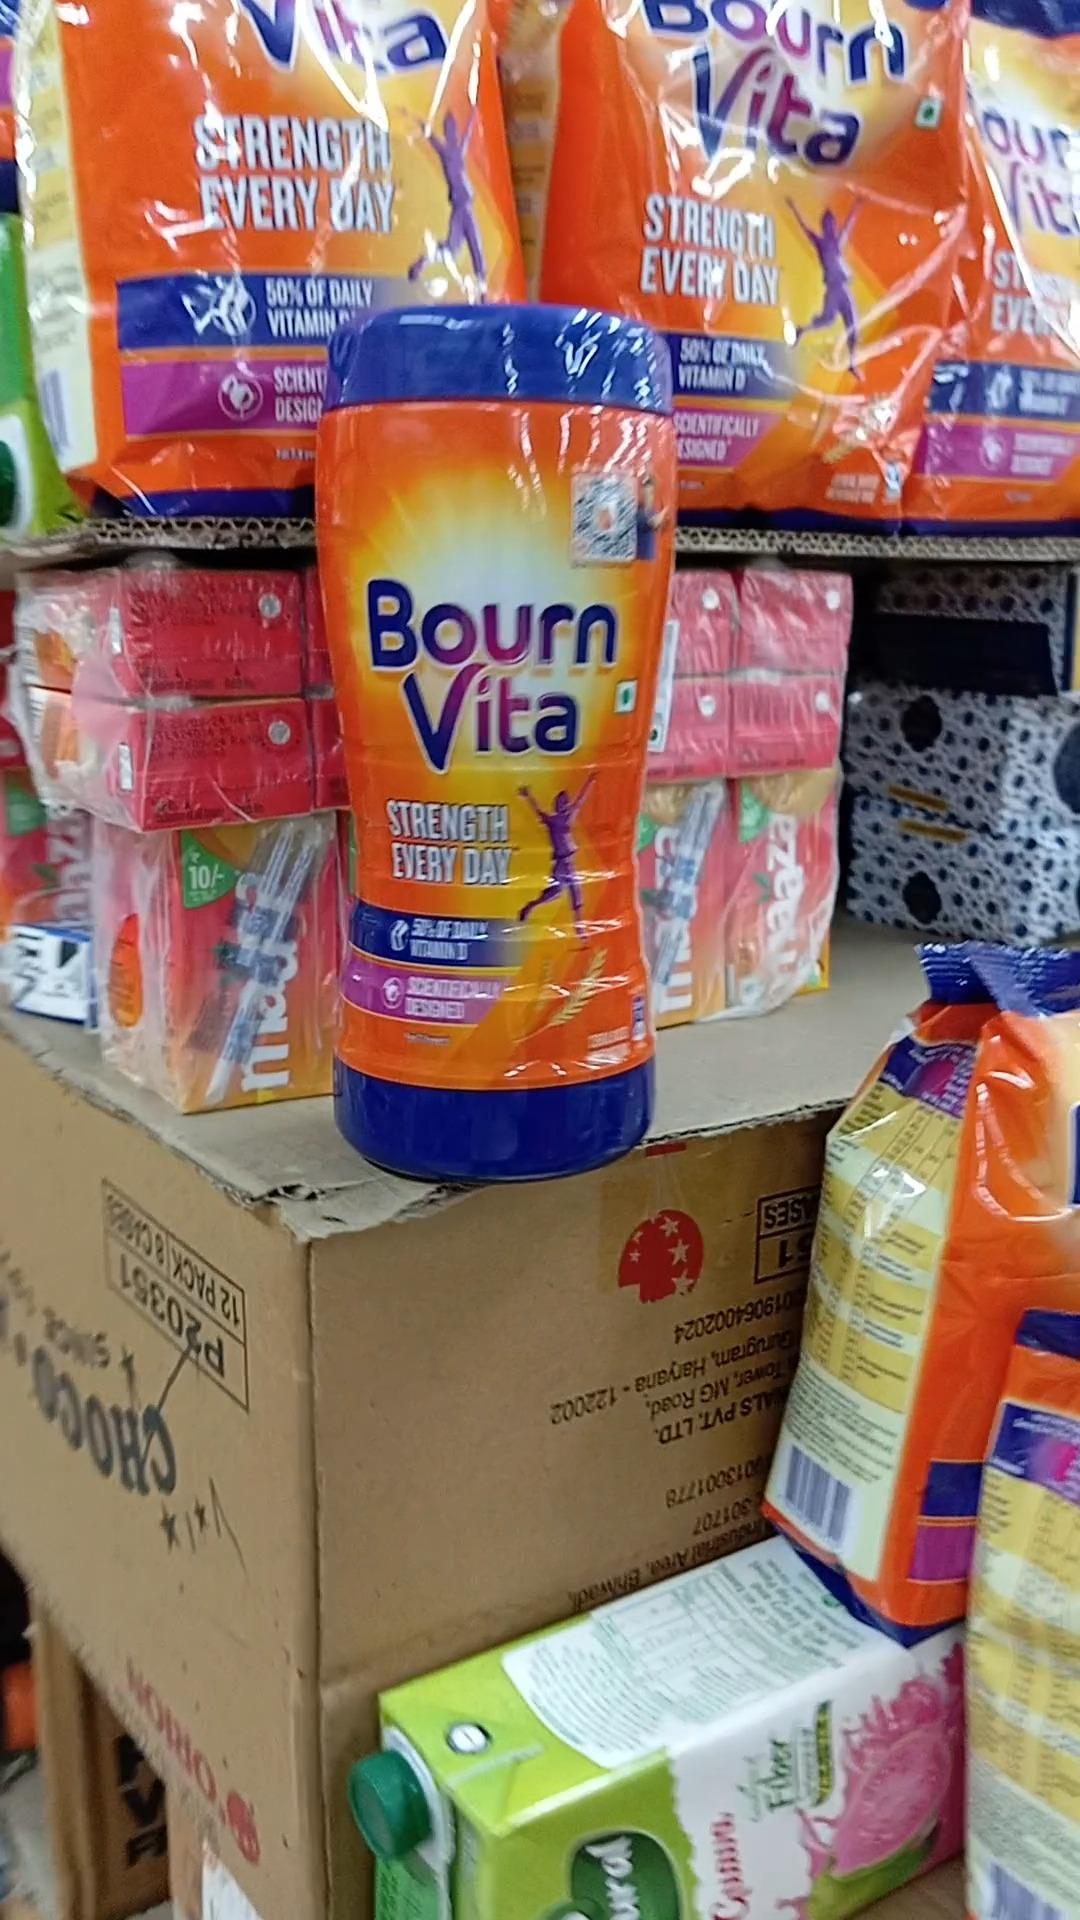BOURN_VITA_500_G_JAR: (314, 278, 661, 1209)
